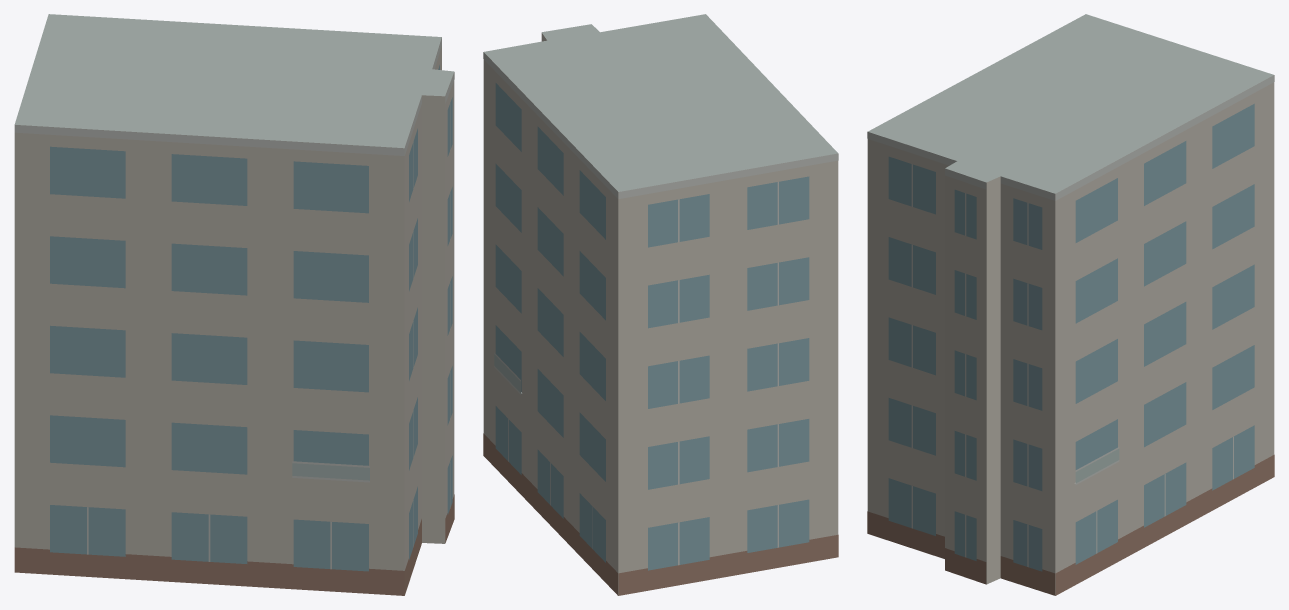
The model's file is survey-upis-32763402.glb.
The picture shows the model from 3 angles, left to right: view 1: azimuth 30°, elevation 25°; view 2: azimuth 150°, elevation 25°; view 3: azimuth 270°, elevation 25°; orthographic projection. The views are drawn at different scales.
Parts seen in each view (by area): view 1: survey-upis-32763402.tmp; view 2: survey-upis-32763402.tmp; view 3: survey-upis-32763402.tmp.
Boxes of the visible parts, left/top/right/bottom form: survey-upis-32763402.tmp: left=14, top=14, right=454, bottom=595; survey-upis-32763402.tmp: left=483, top=14, right=838, bottom=595; survey-upis-32763402.tmp: left=867, top=14, right=1274, bottom=595.
Bounding box in the file's own units: 13.25 × 13.8 × 12.66.
